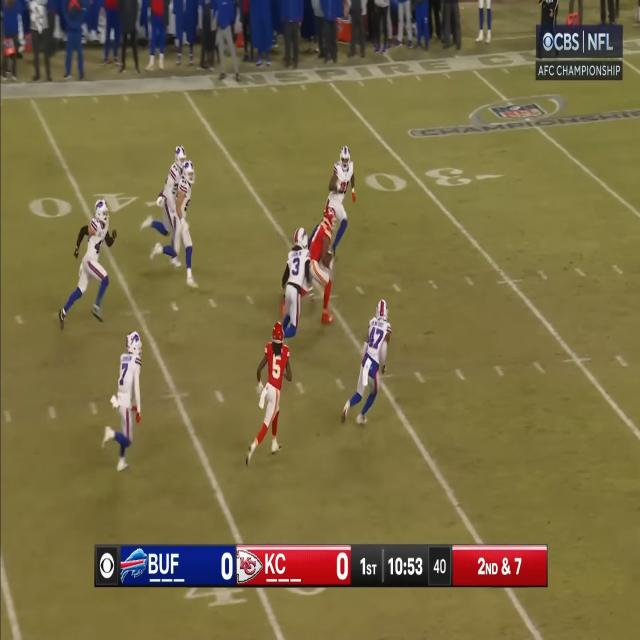Ball: (322, 252, 334, 268)
